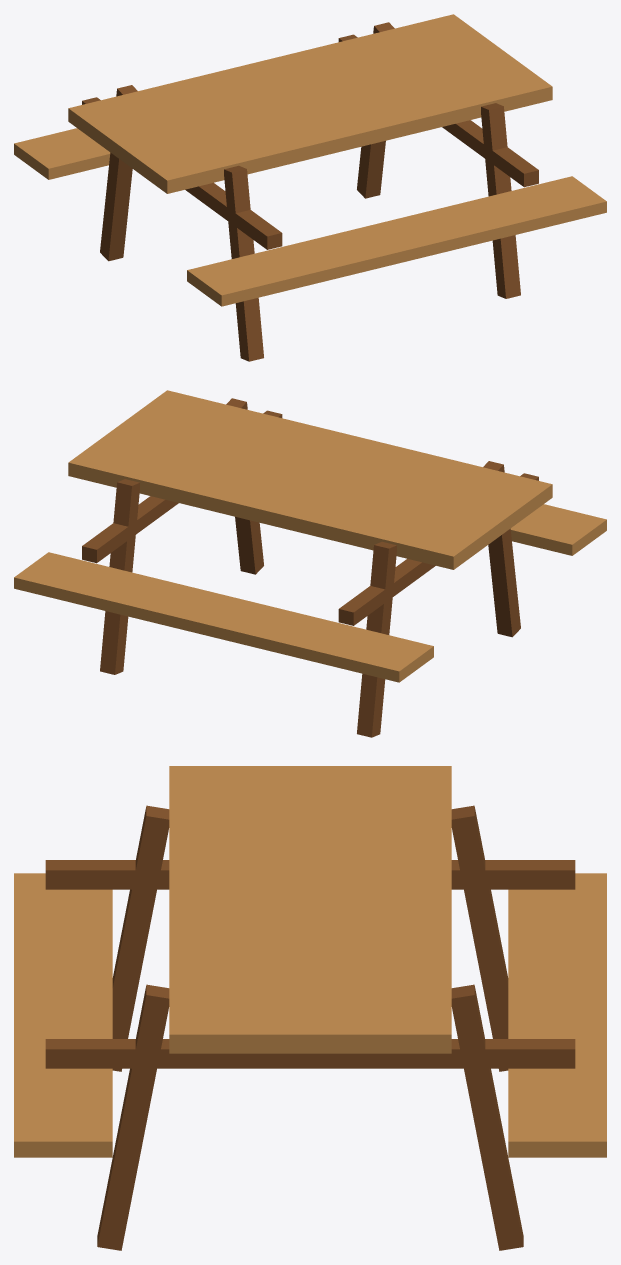
The model's file is picnic_table.glb.
The picture shows the model from 3 angles, top to bottom: view 1: azimuth 30°, elevation 25°; view 2: azimuth 150°, elevation 25°; view 3: azimuth 270°, elevation 25°; orthographic projection. The views are drawn at different scales.
Visible parts, largest first — view 1: picnic_table; view 2: picnic_table; view 3: picnic_table.
Part boxes in pixels (x1,y1,x2,y2): picnic_table: (14,14,606,361); picnic_table: (14,390,606,737); picnic_table: (14,766,606,1250).
Size of the model in its own units: 1.8 by 0.8 by 1.68.
